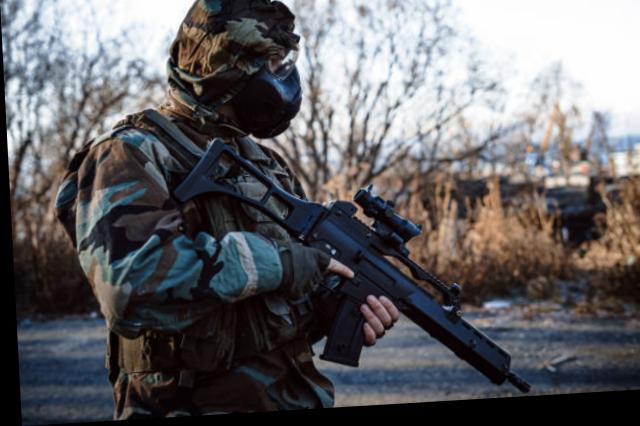other: (57, 0, 354, 421)
